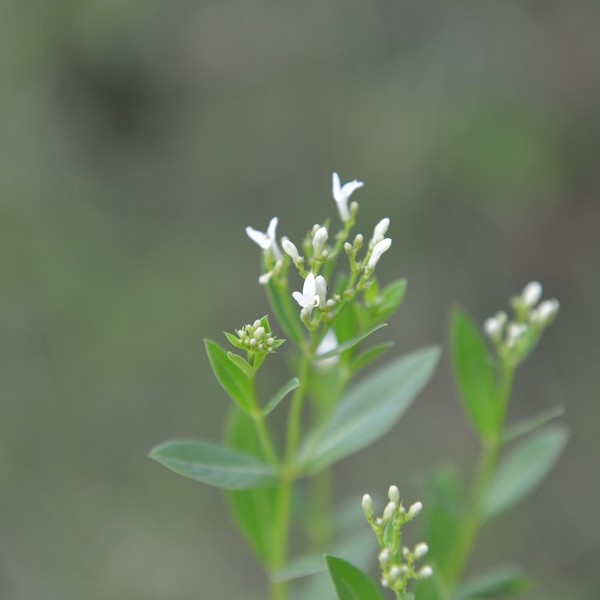obstacle: (169, 176, 403, 579)
